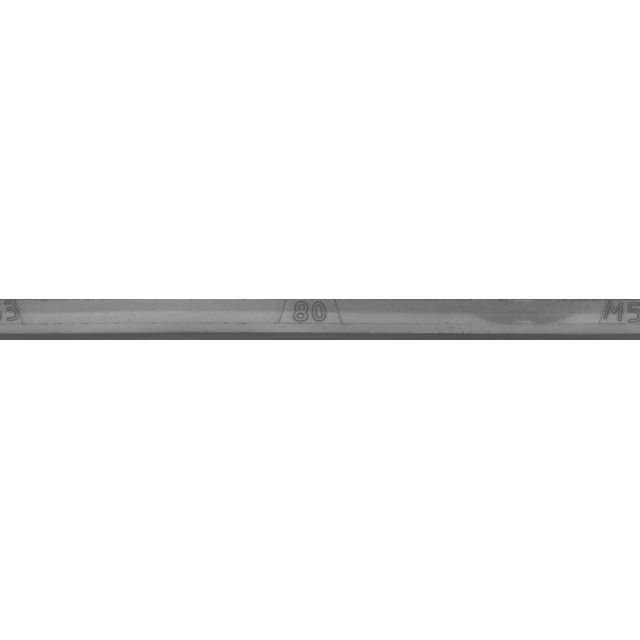mohao: (536, 270, 640, 370)
xuehao: (208, 270, 408, 370)
